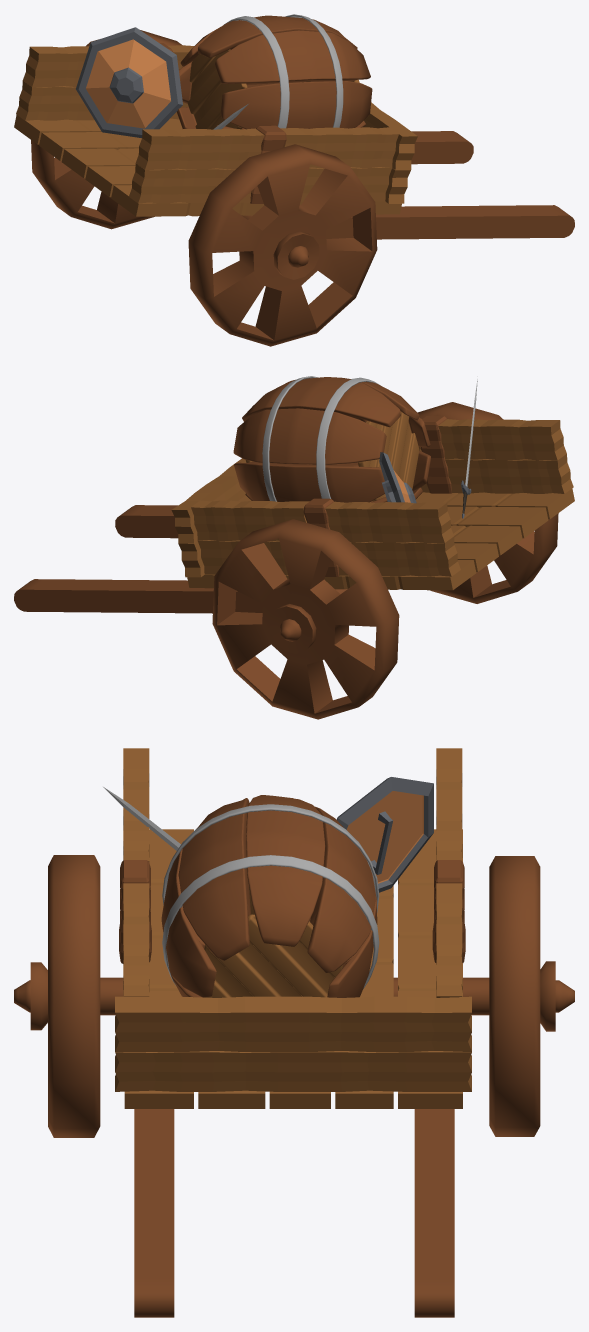
The model's file is carro2.fbx.
The picture shows the model from 3 angles, top to bottom: view 1: azimuth 30°, elevation 25°; view 2: azimuth 150°, elevation 25°; view 3: azimuth 270°, elevation 25°; orthographic projection. The views are drawn at different scales.
Parts seen in each view (by area): view 1: round shield v:91 f:84.001; view 2: round shield v:91 f:84.001; view 3: round shield v:91 f:84.001.
Boxes of the visible parts, left/top/right/bottom form: round shield v:91 f:84.001: left=14, top=14, right=574, bottom=346; round shield v:91 f:84.001: left=14, top=376, right=574, bottom=719; round shield v:91 f:84.001: left=14, top=748, right=574, bottom=1317.
Size of the model in its own units: 649 by 352 by 514.
